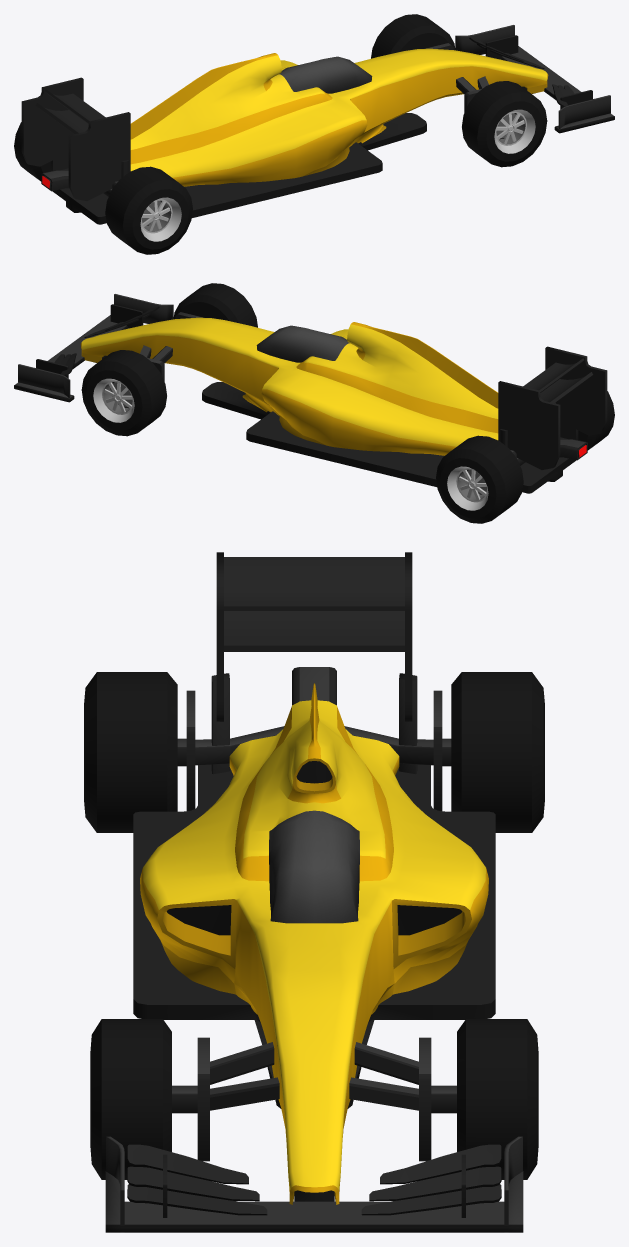
File: RaceCar_004.glb
3 views of the same model, one above another, from view 1: azimuth 30°, elevation 25°; view 2: azimuth 150°, elevation 25°; view 3: azimuth 270°, elevation 25° (orthographic). The views are drawn at different scales.
Parts seen in each view (by area): view 1: RaceCar_004, wheel_3_RaceCar_004_Wheel_2R, wheel_1_RaceCar_004_Wheel_1R, wheel_0_RaceCar_004_Wheel_1L, wheel_2_RaceCar_004_Wheel_2L; view 2: RaceCar_004, wheel_2_RaceCar_004_Wheel_2L, wheel_0_RaceCar_004_Wheel_1L, wheel_1_RaceCar_004_Wheel_1R, wheel_3_RaceCar_004_Wheel_2R; view 3: RaceCar_004, wheel_2_RaceCar_004_Wheel_2L, wheel_3_RaceCar_004_Wheel_2R, wheel_1_RaceCar_004_Wheel_1R, wheel_0_RaceCar_004_Wheel_1L.
Boxes of the visible parts, <box> form: RaceCar_004: <box>21,25,614,224</box>; wheel_3_RaceCar_004_Wheel_2R: <box>105,160,192,254</box>; wheel_1_RaceCar_004_Wheel_1R: <box>462,81,547,167</box>; wheel_0_RaceCar_004_Wheel_1L: <box>371,14,455,58</box>; wheel_2_RaceCar_004_Wheel_2L: <box>14,122,73,181</box>; RaceCar_004: <box>14,294,607,493</box>; wheel_2_RaceCar_004_Wheel_2L: <box>436,429,523,523</box>; wheel_0_RaceCar_004_Wheel_1L: <box>81,350,166,436</box>; wheel_1_RaceCar_004_Wheel_1R: <box>173,283,257,327</box>; wheel_3_RaceCar_004_Wheel_2R: <box>555,391,614,450</box>; RaceCar_004: <box>105,552,523,1232</box>; wheel_2_RaceCar_004_Wheel_2L: <box>399,672,544,832</box>; wheel_3_RaceCar_004_Wheel_2R: <box>84,672,229,832</box>; wheel_1_RaceCar_004_Wheel_1R: <box>90,1019,209,1179</box>; wheel_0_RaceCar_004_Wheel_1L: <box>419,1019,538,1179</box>.
Size of the model in its own units: 6.67 by 1.46 by 2.58.
Materials: 2 (2 with a texture image).
